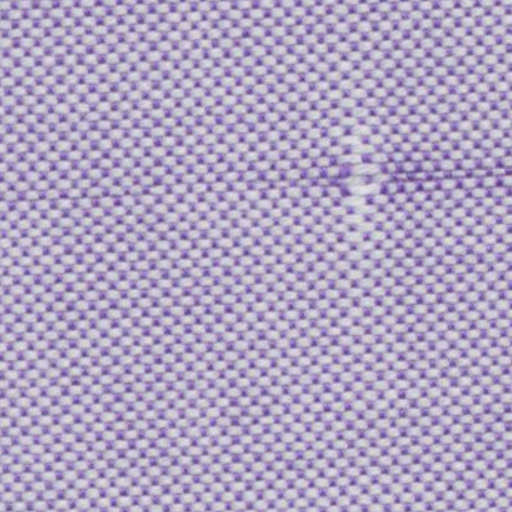DaiSha: (324, 126, 416, 270)
